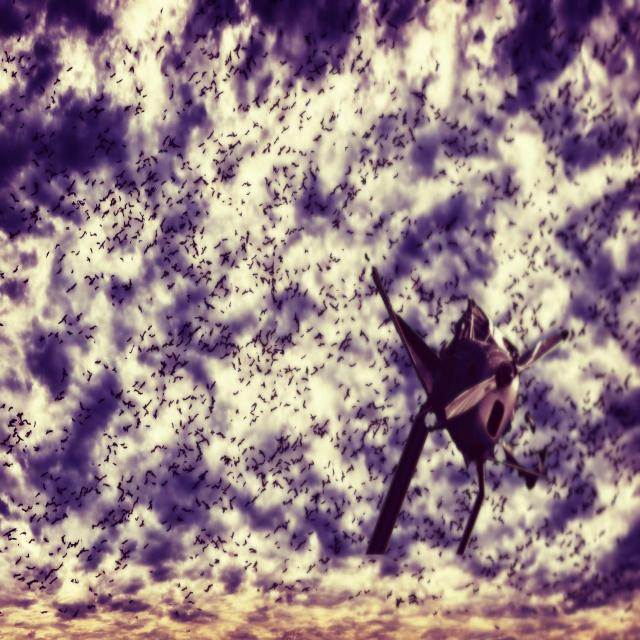airplane: (364, 264, 569, 557)
